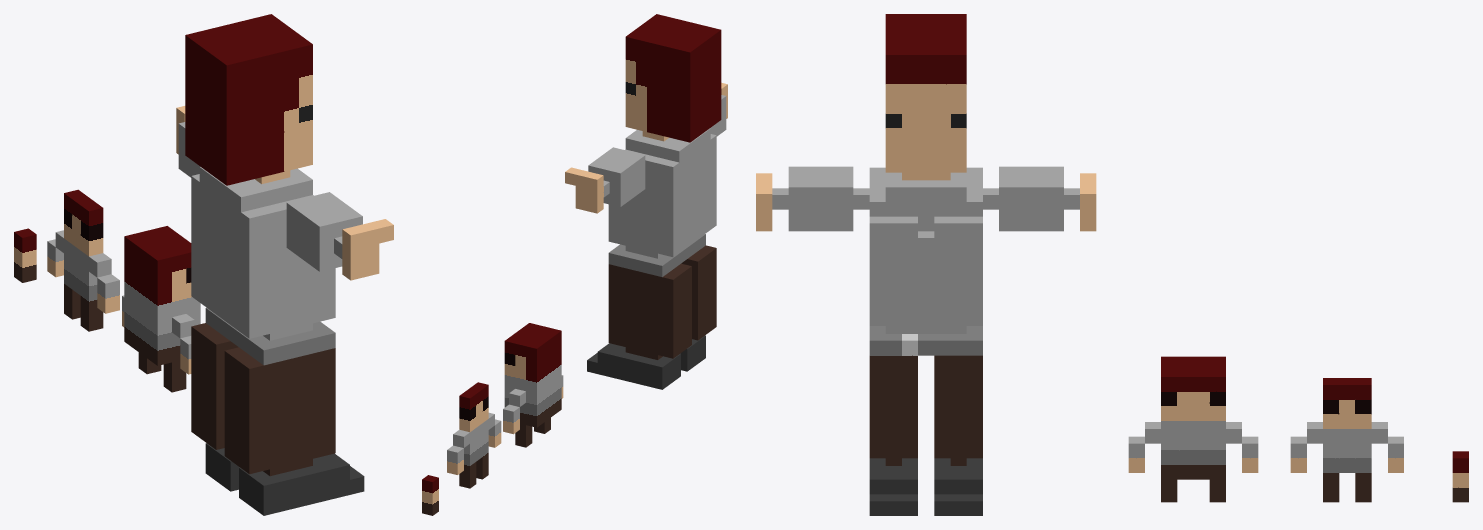
The model's file is rand.glb.
The picture shows the model from 3 angles, left to right: view 1: azimuth 30°, elevation 25°; view 2: azimuth 150°, elevation 25°; view 3: azimuth 270°, elevation 25°; orthographic projection. The views are drawn at different scales.
Visible parts, largest first — view 1: pl0; view 2: pl0; view 3: pl0.
Boxes of the visible parts, left/top/right/bottom form: pl0: left=14, top=14, right=393, bottom=515; pl0: left=422, top=14, right=727, bottom=515; pl0: left=756, top=14, right=1468, bottom=515.
Bounding box in the file's own units: 9 × 30 × 44.
Materials: 1 (1 with a texture image).
